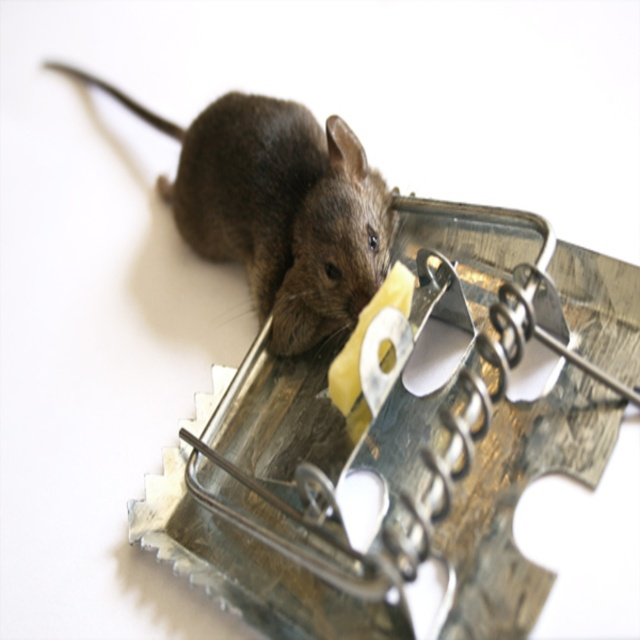Mouse: (42, 60, 410, 357)
